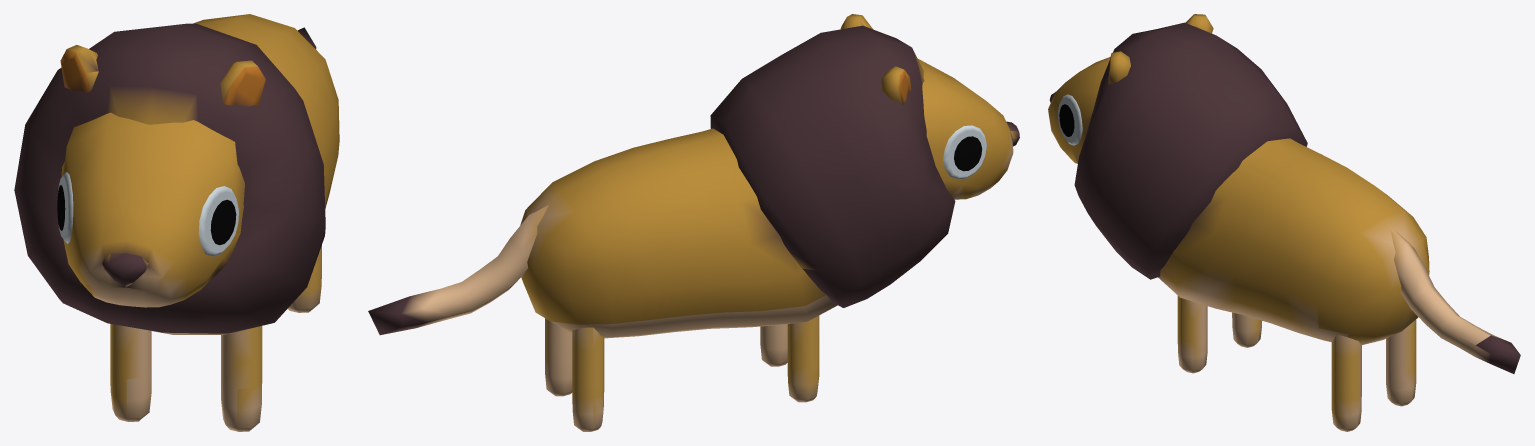
The model's file is Lion.glb.
The picture shows the model from 3 angles, left to right: view 1: azimuth 30°, elevation 25°; view 2: azimuth 150°, elevation 25°; view 3: azimuth 270°, elevation 25°; orthographic projection. The views are drawn at different scales.
Visible parts, largest first — view 1: 91; view 2: 91; view 3: 91.
Part boxes in pixels (<box>): 91: <box>14,14,339,431</box>; 91: <box>368,14,1019,431</box>; 91: <box>1048,14,1520,431</box>.
Size of the model in its own units: 1.1 by 0.8536 by 1.21.
